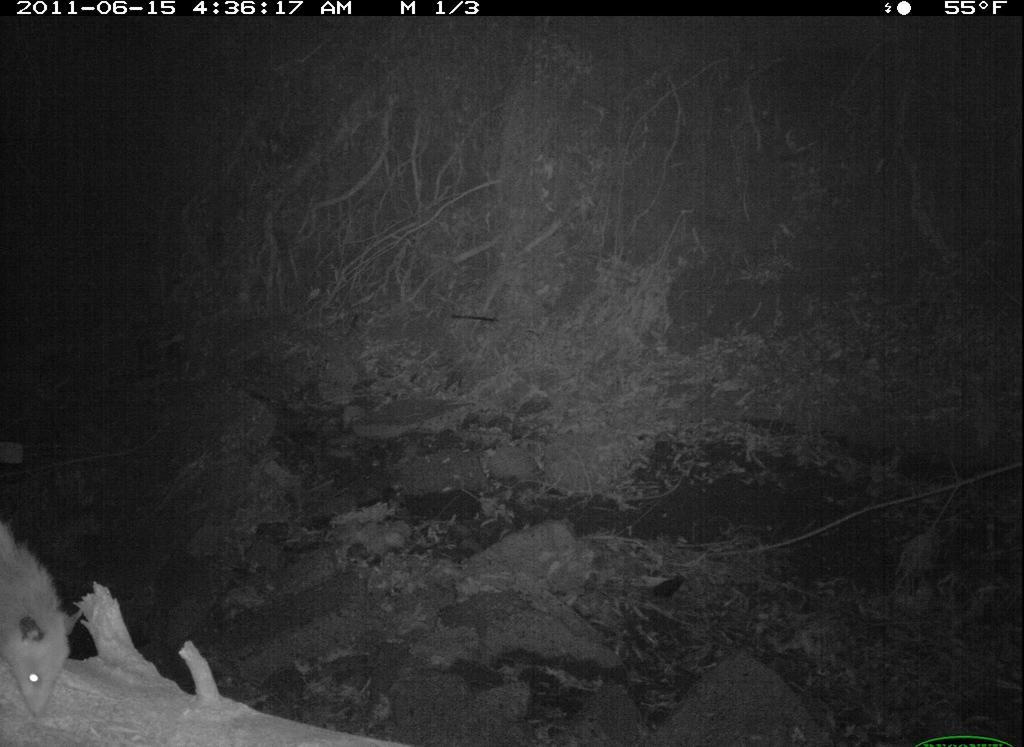opossum: (2, 509, 91, 725)
